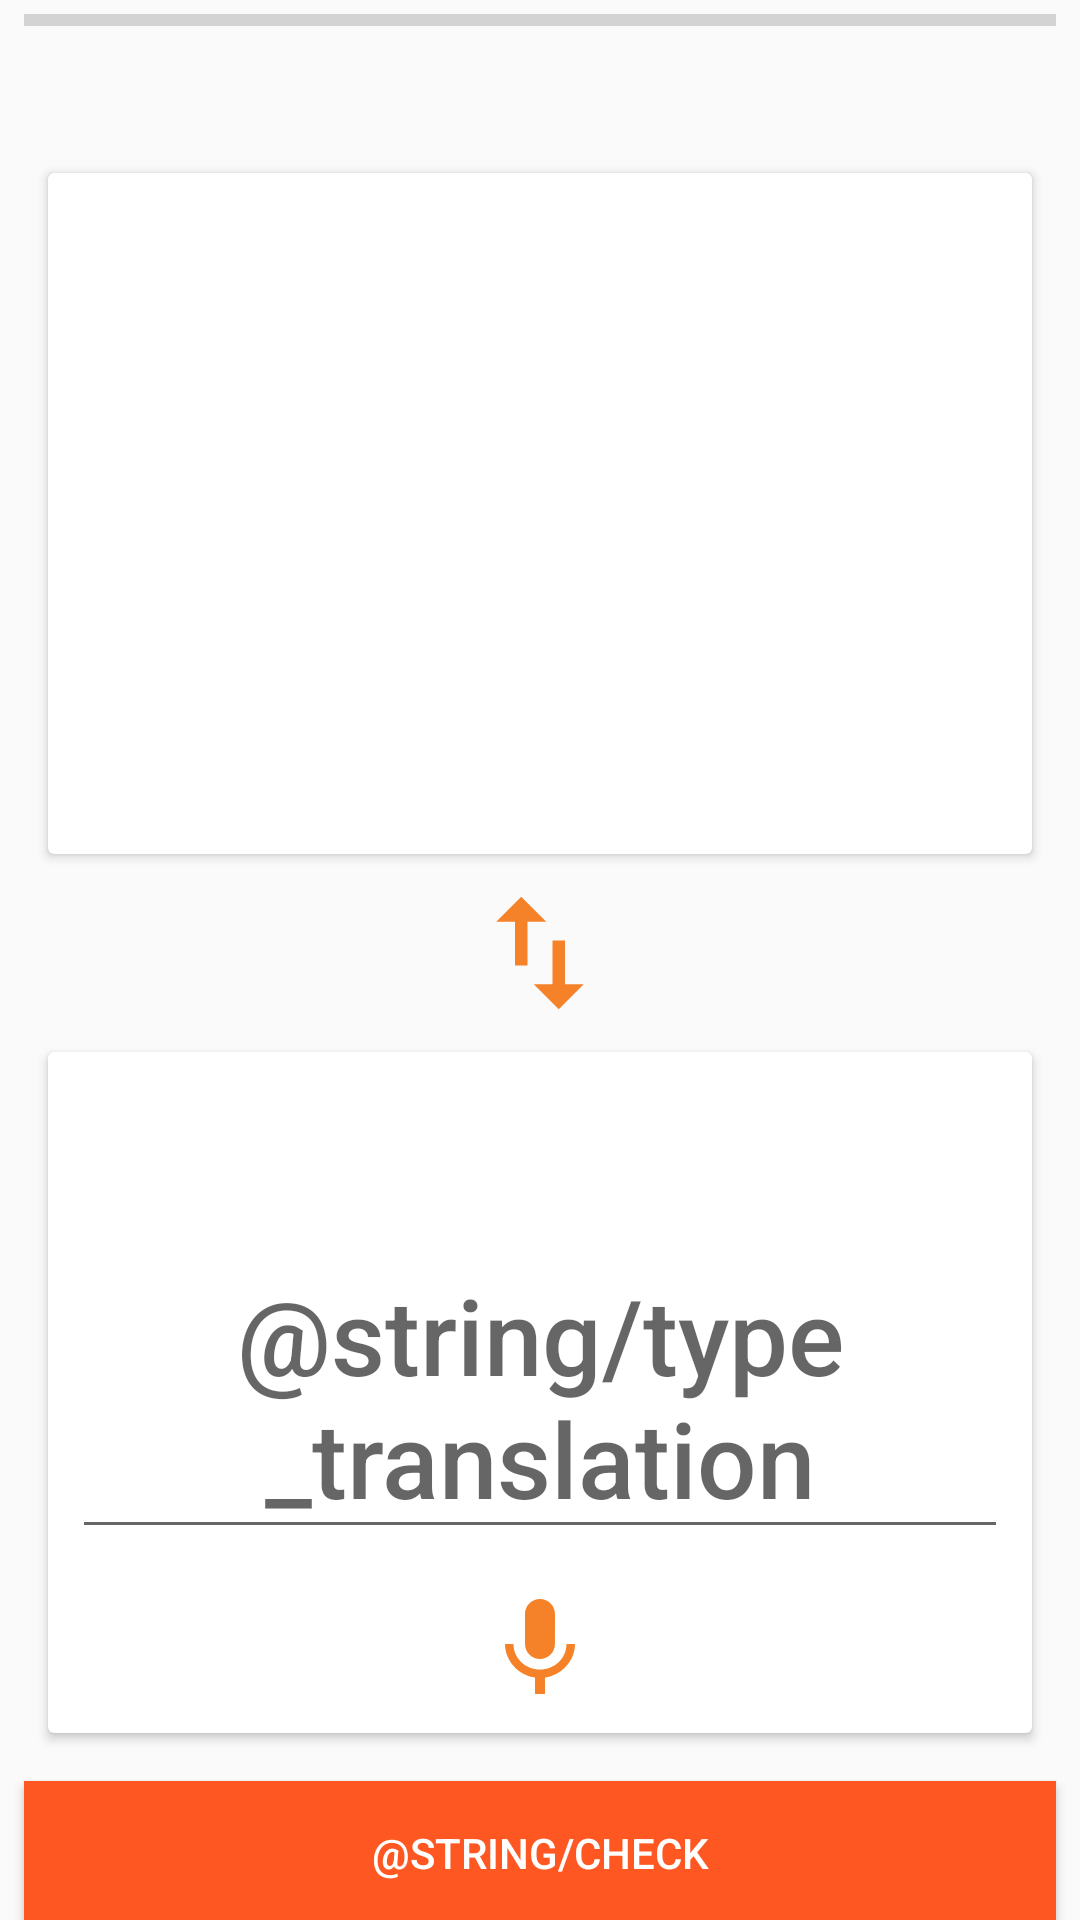

Where icons sit on this 1080×1920 app screen, as (left=x1, top=y1, right=x2, bottom=y2):
import export: (left=496, top=897, right=584, bottom=1009)
mic: (left=505, top=1599, right=575, bottom=1694)
